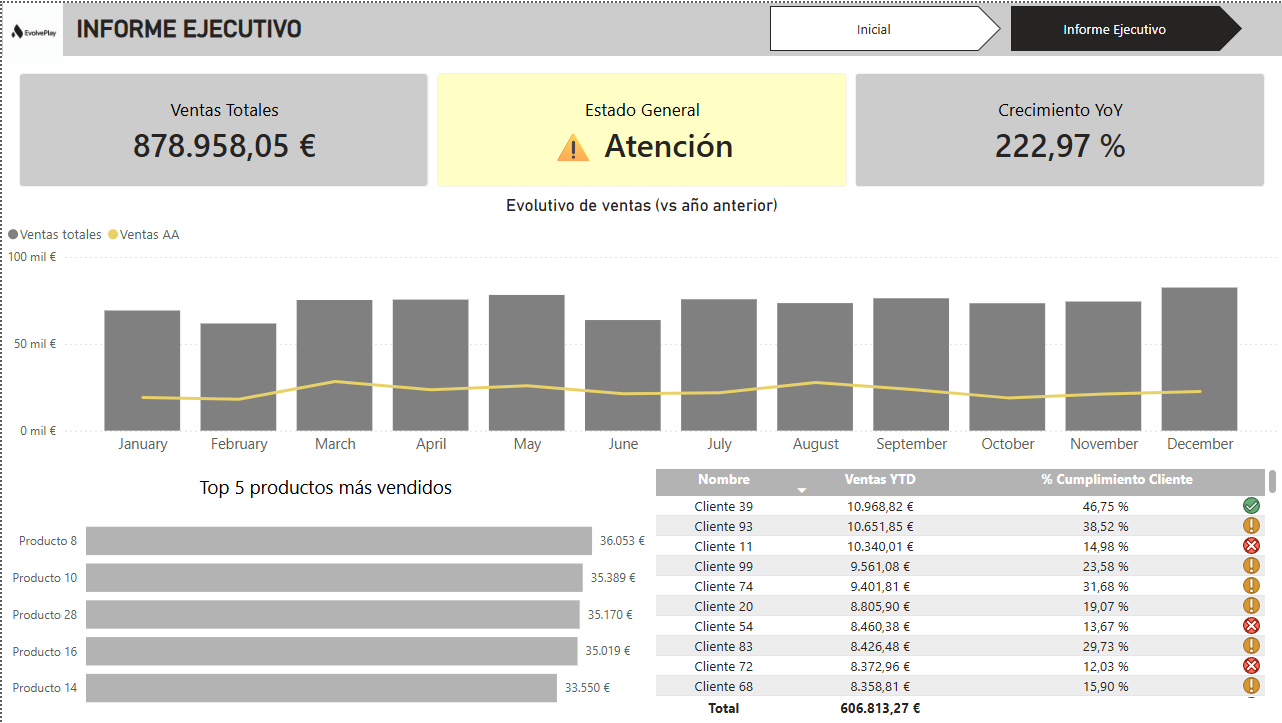

This screenshot's page, from the dashboard's own definition file:
{"tool":"powerbi","page":{"name":"Informe Ejecutivo","canvas":[1280,720],"ordinal":1},"visuals":[{"type":"shape","box":[0,0,1280,52.9],"z":0,"group":"g1"},{"type":"cardVisual","fields":{"Data":["medidas_dax.KPI_Total_Ventas","medidas_dax.KPI_Estado_General","medidas_dax.KPI_Crecimiento_YoY_%"]},"box":[0,52.9,1280,148.3],"z":0},{"type":"image","box":[0,0,62.2,60.2],"z":1000,"group":"g1"},{"type":"lineClusteredColumnComboChart","title":"Evolutivo de ventas (vs año anterior)","fields":{"Category":["dim_fecha.Jerarquia de fecha.Año","dim_fecha.Jerarquia de fecha.Mes","dim_fecha.Jerarquia de fecha.Día"],"Y":["medidas_dax.KPI_Total_Ventas"],"Y2":["medidas_dax.KPI_Ventas_LY"]},"box":[0,191.7,1280,269.9],"z":1000},{"type":"pageNavigator","box":[768,3.2,471.6,44.6],"z":2000,"group":"g1"},{"type":"clusteredBarChart","title":"Top 5 productos más vendidos","fields":{"Category":["dim_productos.Nombre_Producto"],"Y":["medidas_dax.KPI_Total_Ventas"]},"box":[0,470.6,648.3,249.4],"z":2000},{"type":"textbox","box":[70,6.7,298.9,41.1],"z":3000,"group":"g1"},{"type":"tableEx","fields":{"Values":["dim_clientes.Nombre","medidas_dax.KPI_Ventas_YTD","medidas_dax.% Cumplimiento Cliente"]},"box":[648.3,461.3,631.7,257.8],"z":3000},{"type":"group","id":"g1","title":"Cabecera","box":[0,0,1280,60.2],"z":4000}]}

Visuals, with their boxes in screenshot pixels (x1, y1, x2, y2), scaled from the page's 1280x720 canvas onto the 1282x723 screenshot:
shape: 0/0/1281/53
cardVisual - medidas_dax.KPI_Total_Ventas x medidas_dax.KPI_Estado_General: 0/53/1281/202
image: 0/0/62/60
"Evolutivo de ventas (vs año anterior)" lineClusteredColumnComboChart: 0/192/1281/464
pageNavigator: 769/3/1242/48
"Top 5 productos más vendidos" clusteredBarChart: 0/473/649/722
textbox: 70/7/369/48
tableEx - dim_clientes.Nombre x medidas_dax.KPI_Ventas_YTD: 649/463/1281/722
"Cabecera" group: 0/0/1281/60
